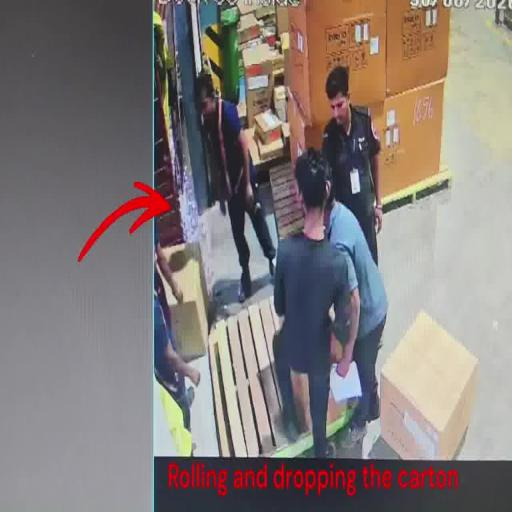carton: (380, 309, 480, 461), (289, 1, 386, 126), (370, 78, 447, 202), (385, 0, 451, 101), (156, 243, 208, 362), (286, 88, 332, 172), (245, 60, 273, 128), (253, 109, 285, 144)
pallet: (206, 294, 305, 460), (268, 160, 302, 240)
person: (272, 150, 360, 462), (195, 72, 277, 304), (324, 202, 390, 433), (319, 64, 384, 265), (154, 241, 203, 436)
